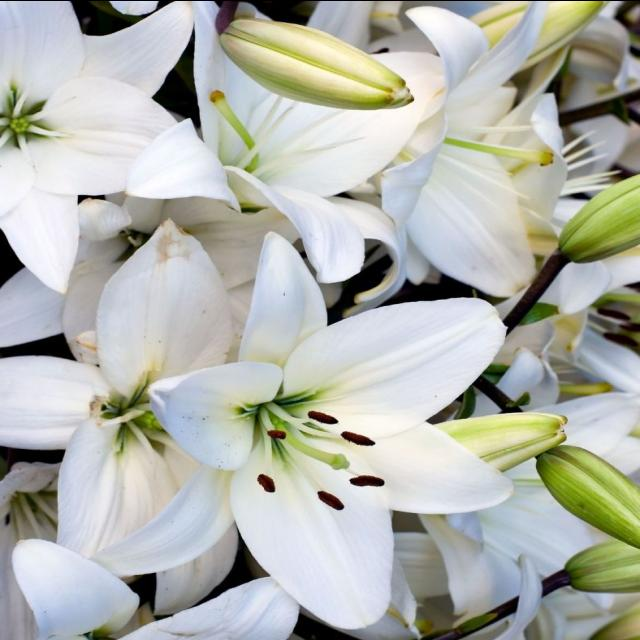lily: (158, 264, 526, 628)
